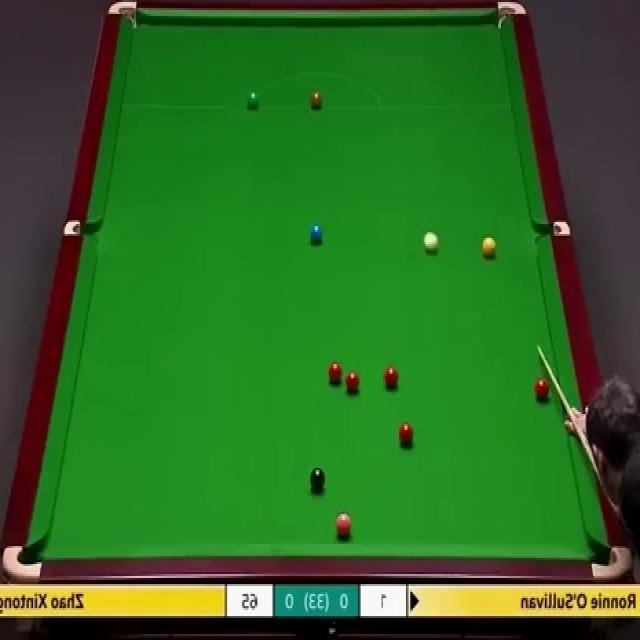black-ball: (310, 469, 326, 491)
blue-ball: (308, 220, 324, 243)
brown-ball: (310, 88, 322, 108)
green-ball: (246, 91, 260, 111)
pink-ball: (334, 515, 352, 537)
red-ball: (381, 361, 399, 392), (533, 374, 551, 404), (399, 420, 414, 448), (326, 360, 343, 383), (344, 371, 361, 393)
white-ball: (422, 230, 438, 256)
yellow-ball: (480, 236, 497, 259)
